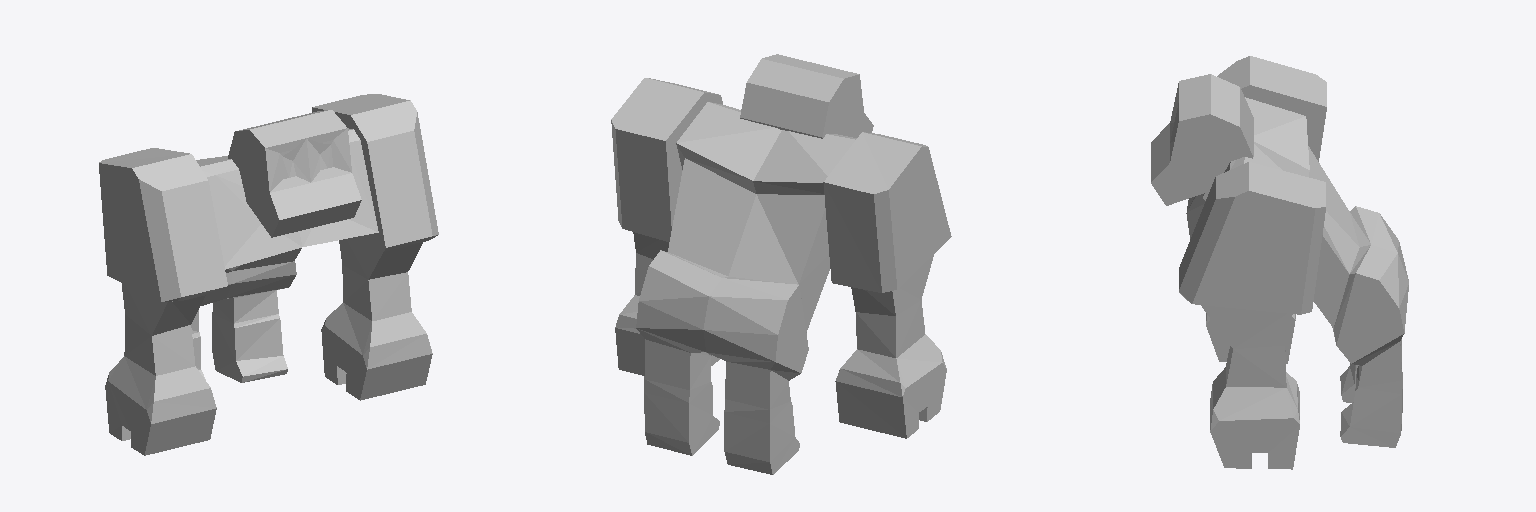
Rendered from kong_000012.obj.
3 views of the same model, side by side, from view 1: azimuth 30°, elevation 25°; view 2: azimuth 150°, elevation 25°; view 3: azimuth 270°, elevation 25° (orthographic).
Visible parts, largest first — view 1: Cube; view 2: Cube; view 3: Cube.
Boxes of the visible parts, box(x1,y1,x2,y2) form: Cube: box(99, 94, 438, 455); Cube: box(611, 54, 951, 474); Cube: box(1151, 56, 1408, 469).
Bounding box in the file's own units: 5.84 × 6.33 × 4.59.